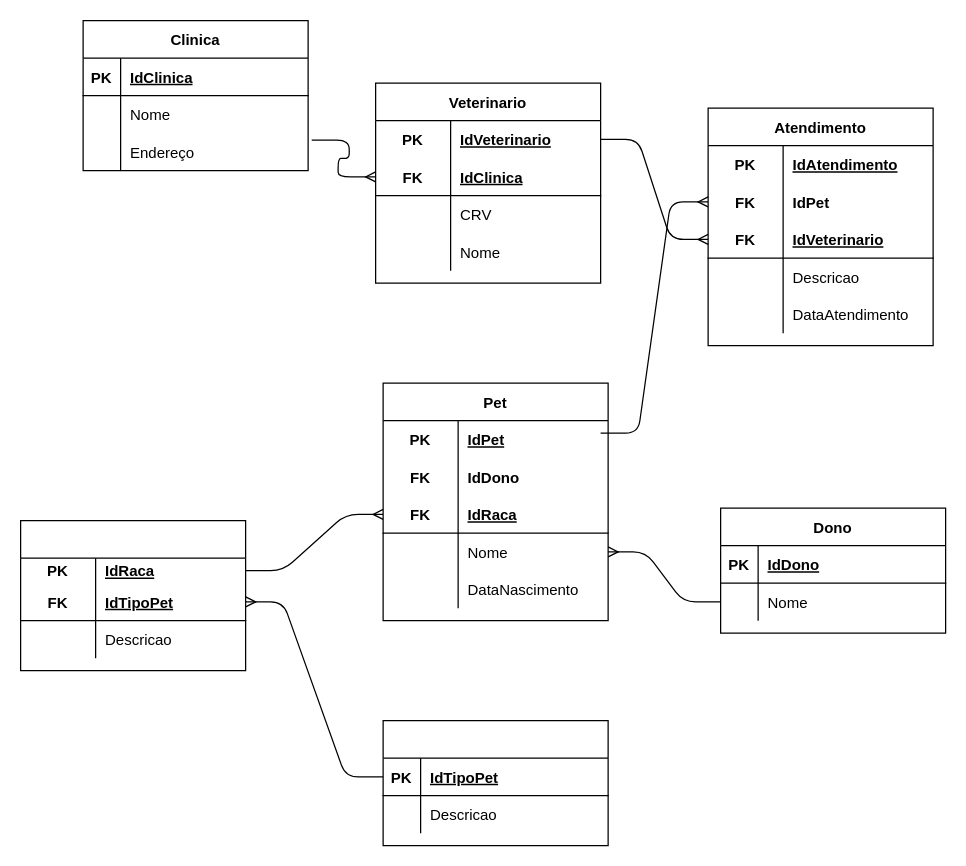
Image size: 966x866. Some labels were removed from this diagram. The shapes that lost their labels are listed below. From the top down, each one's box as (x1, y1, x2, y2) in pixels, then its label:
(19, 519, 246, 671): Racas
(382, 719, 608, 846): TiposPet
